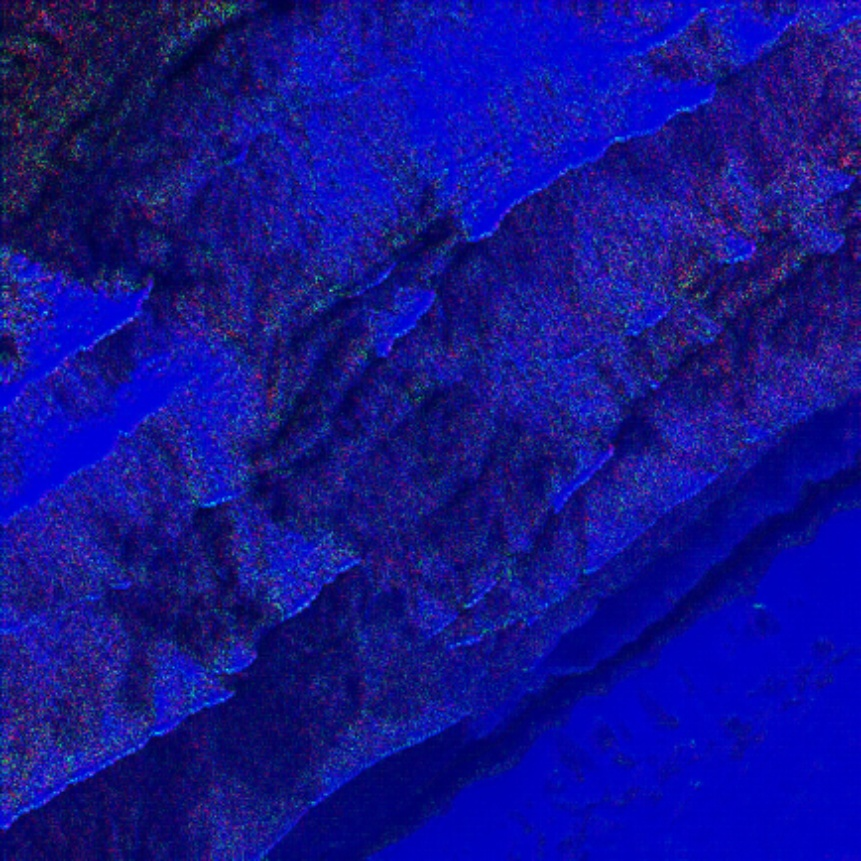rip_current: (35, 45, 624, 659)
